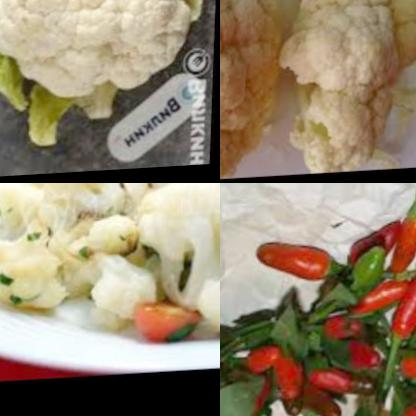cayliflower: (0, 183, 220, 355), (0, 0, 211, 139), (272, 0, 416, 178), (220, 0, 275, 183)
hot pepper: (252, 236, 341, 289), (349, 273, 416, 325), (342, 222, 405, 275), (330, 317, 385, 376), (383, 199, 416, 280), (279, 374, 342, 416), (275, 353, 313, 407), (248, 331, 290, 379), (307, 364, 360, 402), (398, 270, 416, 350)
tomato: (124, 292, 206, 347)
